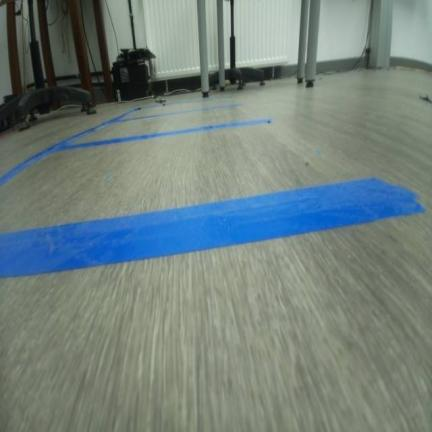place: (0, 117, 423, 279), (39, 101, 272, 151), (112, 93, 236, 120)
